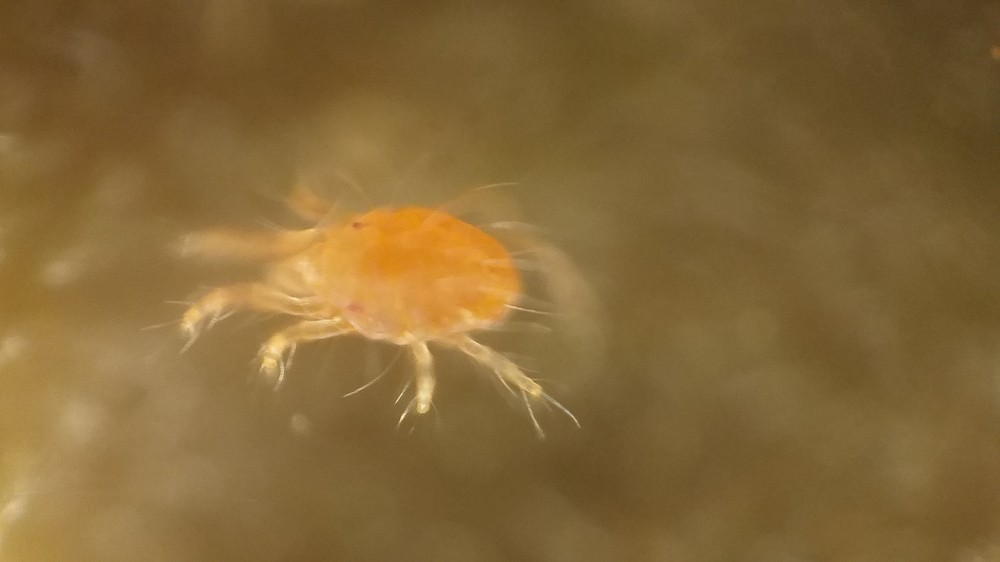Aracnido Rojo: (172, 143, 619, 442)
